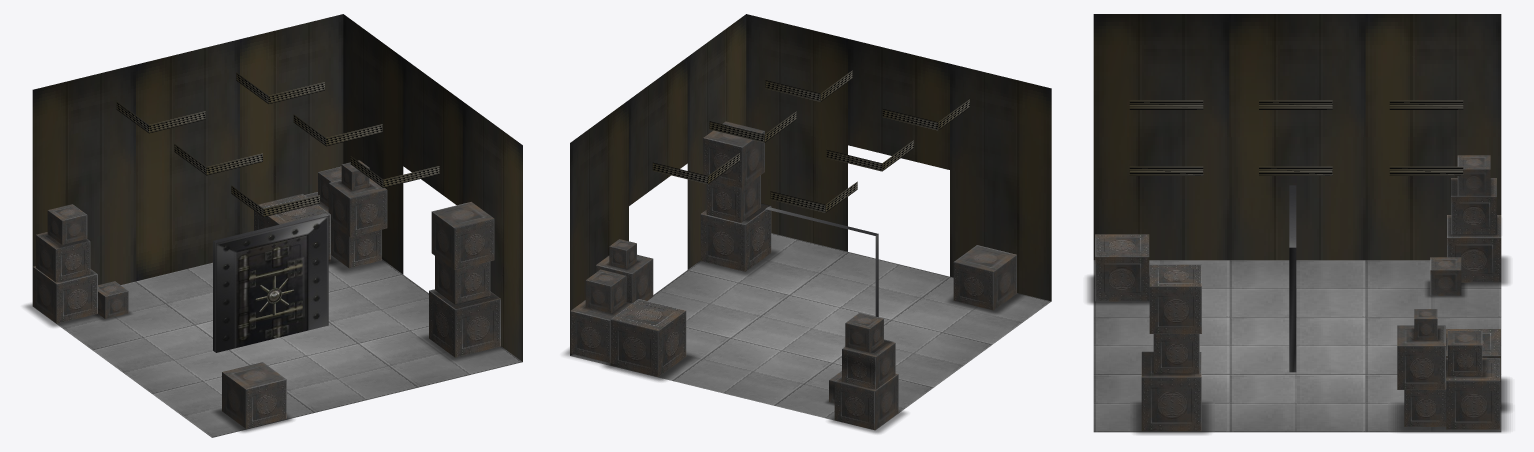
File: room_21.glb
3 views of the same model, side by side, from view 1: azimuth 30°, elevation 25°; view 2: azimuth 150°, elevation 25°; view 3: azimuth 270°, elevation 25° (orthographic). The views are drawn at different scales.
Parts seen in each view (by area): view 1: wall, floor, VaultDoorCover, C1MetalBox3 (×3), CBMetalBoxSides (×4), F1MetalBox2, CBMetalCrate_v2_s1_CBMetalBoxSides, CBMetalBoxTop (×2), F1MetalBox, Lights6, Lights11, Lights8 (+6 smaller); view 2: wall, floor, CBMetalBoxSides (×4), C1MetalBox3 (×3), CBMetalCrate_v2_s1_CBMetalBoxSides, CBMetalBoxTop (×2), F1MetalBox5, F1MetalBox3, F1MetalBox2, Lights11, Lights6, Lights9 (+6 smaller); view 3: wall, floor, C1MetalBox3 (×3), CBMetalBoxSides (×4), F1MetalBox5, F1MetalBox2, CBMetalBoxTop (×4), CBMetalCrate_v2_s1_CBMetalBoxSides, F1MetalBox, F1MetalBox3, VaultDoorCover, F1MetalBox1Shadow (+10 smaller).
Boxes of the visible parts, x1,y1,x2,y2 form: wall: [32, 14, 522, 361]; floor: [34, 255, 522, 437]; VaultDoorCover: [213, 213, 328, 352]; C1MetalBox3 (×3): [429, 202, 500, 357]; CBMetalBoxSides (×4): [36, 210, 286, 428]; F1MetalBox2: [328, 178, 387, 237]; CBMetalCrate_v2_s1_CBMetalBoxSides: [33, 267, 97, 323]; CBMetalBoxTop (×2): [222, 194, 330, 389]; F1MetalBox: [331, 223, 381, 268]; Lights6: [116, 101, 205, 133]; Lights11: [293, 114, 382, 146]; Lights8: [350, 156, 439, 187]; wall: [570, 14, 1051, 355]; floor: [570, 233, 1051, 429]; CBMetalBoxSides (×4): [610, 255, 1016, 389]; C1MetalBox3 (×3): [700, 121, 771, 271]; CBMetalCrate_v2_s1_CBMetalBoxSides: [834, 374, 898, 430]; CBMetalBoxTop (×2): [611, 245, 1016, 330]; F1MetalBox5: [570, 300, 631, 362]; F1MetalBox3: [585, 269, 626, 313]; F1MetalBox2: [596, 254, 653, 303]; Lights11: [709, 111, 796, 142]; Lights6: [770, 181, 857, 212]; Lights9: [652, 153, 739, 184]; wall: [1093, 14, 1501, 260]; floor: [1093, 260, 1501, 432]; C1MetalBox3 (×3): [1141, 264, 1201, 431]; CBMetalBoxSides (×4): [1095, 169, 1496, 301]; F1MetalBox5: [1446, 358, 1500, 429]; F1MetalBox2: [1397, 325, 1445, 389]; CBMetalBoxTop (×4): [1095, 155, 1500, 355]; CBMetalCrate_v2_s1_CBMetalBoxSides: [1447, 238, 1501, 282]; F1MetalBox: [1404, 371, 1446, 426]; F1MetalBox3: [1448, 331, 1482, 376]; VaultDoorCover: [1289, 185, 1296, 372]; F1MetalBox1Shadow: [1393, 403, 1508, 432].
Bounding box in the file's own units: 48.36 × 30.54 × 48.5.
Materials: 10 (10 with a texture image).
